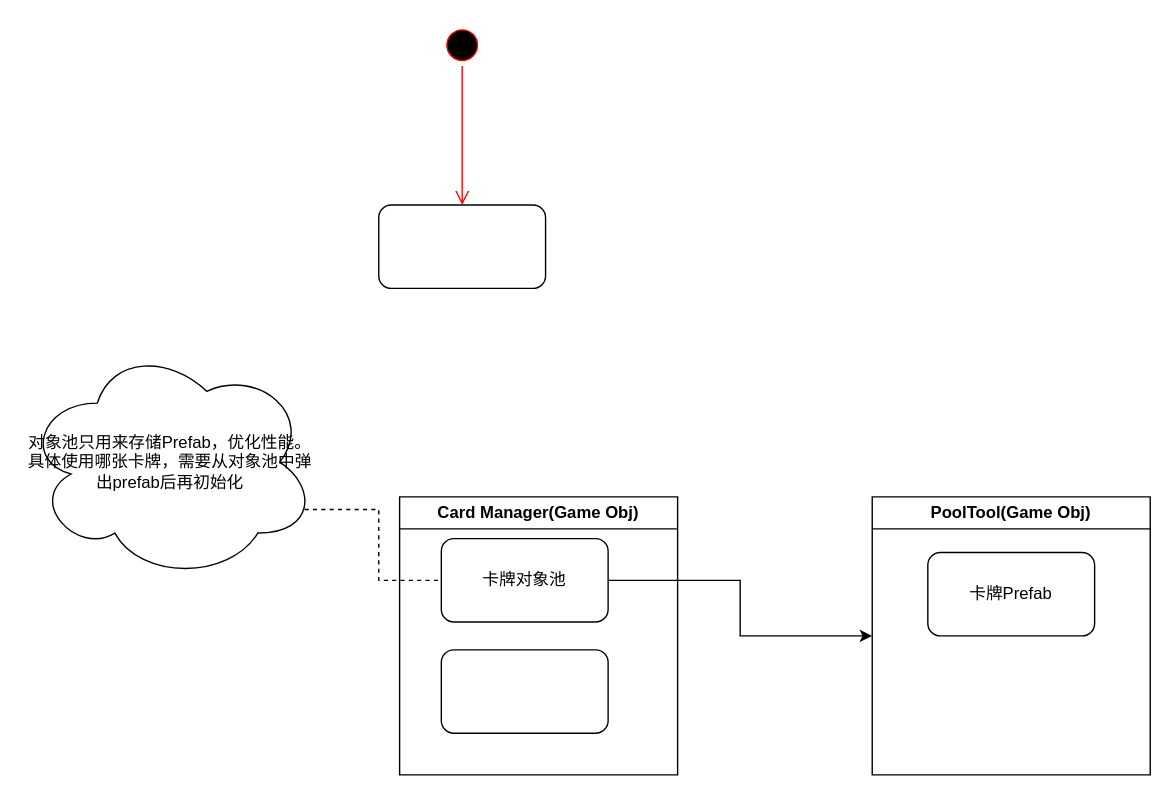
The diagram is 1175 pixels wide and 799 high, and some of its shapes have lost their labels. The centre of each missing label's shape, as x and y in pixels:
"使用Addressables获取所有CardData" goes at point (461, 246).
"所有卡牌数据 CardDataSO" goes at point (524, 690).
